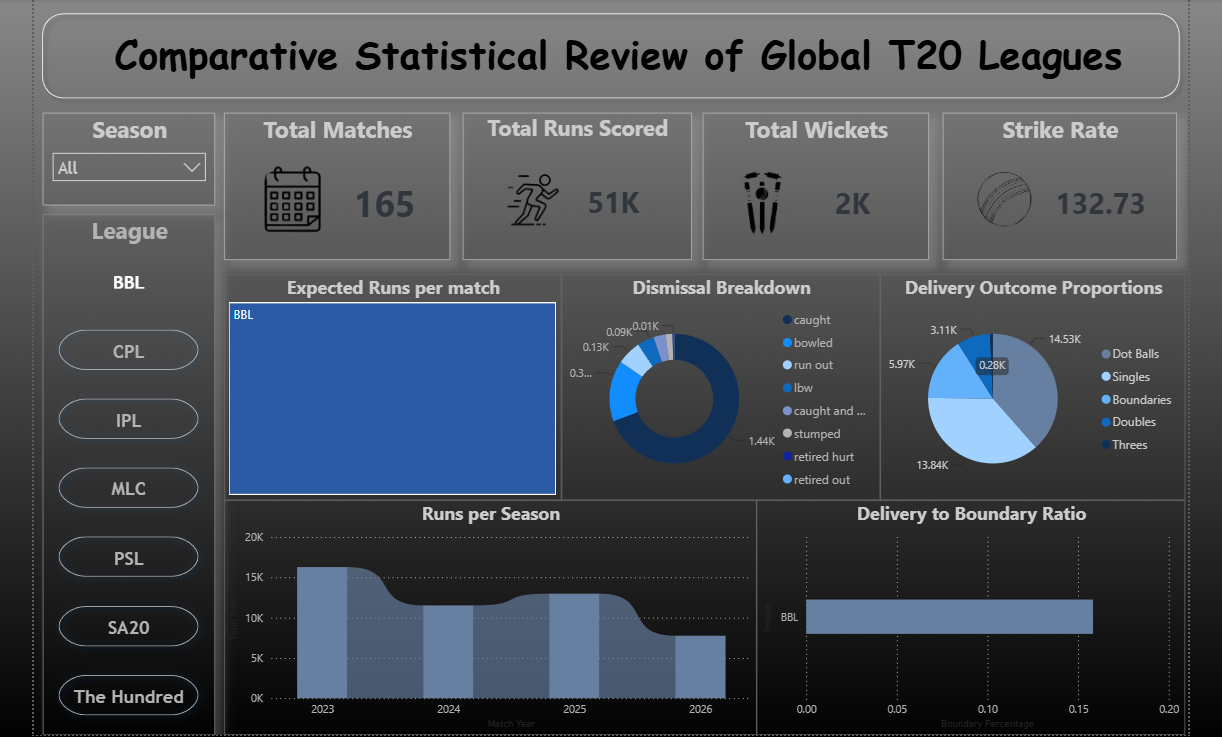

The page's visual inventory and layout, read from the dashboard file:
{"tool":"powerbi","page":{"name":"Page 1","canvas":[1285,820],"ordinal":0},"visuals":[{"type":"cardVisual","title":"Total Matches","fields":{"Data":["public matches.Total Matches"]},"box":[211.7,126.7,252.1,164.3],"z":0},{"type":"advancedSlicerVisual","title":"League","fields":{"Values":["public matches.league"]},"box":[9.7,239.5,192.2,580.7],"z":1000},{"type":"cardVisual","title":"Total Wickets","fields":{"Data":["public deliveries.Wickets Taken"]},"box":[745.1,126.7,252.1,164.3],"z":2000},{"type":"slicer","title":"Season","fields":{"Values":["public matches.Match Year"]},"box":[9.7,126.7,192.2,103.1],"z":3000},{"type":"cardVisual","title":"Total Runs Scored","fields":{"Data":["Sum(public deliveries.runs_total)"]},"box":[477.7,126.7,254.9,164.3],"z":4000},{"type":"treemap","title":"Expected Runs per match","fields":{"Group":["public matches.league"],"Values":["public deliveries.Average Runs per match"]},"box":[211.7,306.4,376,252.1],"z":5000},{"type":"ribbonChart","title":"Runs per Season","fields":{"Category":["public matches.Match Year"],"Y":["public deliveries.Total Runs"]},"box":[211.7,558.5,593.3,261.8],"z":6000},{"type":"donutChart","title":"Dismissal Breakdown","fields":{"Y":["CountNonNull(public deliveries.dismissal_kind)"],"Category":["public deliveries.dismissal_kind"]},"box":[587.7,306.4,355.1,252.1],"z":7000},{"type":"pieChart","title":"Delivery Outcome Proportions","fields":{"Category":["public deliveries.Run_category"],"Y":["CountNonNull(public deliveries.Run_category)"]},"box":[942.8,306.4,339.8,252.1],"z":8000},{"type":"clusteredBarChart","title":"Delivery to Boundary Ratio","fields":{"Y":["public matches.Boundary Percentage"],"Category":["public matches.league"]},"box":[805,558.5,477.7,261.8],"z":9000},{"type":"shape","box":[0,7,1285.4,112.8],"z":10000},{"type":"textbox","box":[20.9,26.5,1242.3,85],"z":11000},{"type":"cardVisual","title":"Strike Rate","fields":{"Data":["public deliveries.Strike Rate"]},"box":[1012.5,126.7,260.4,164.3],"z":12000}]}

Visuals, with their boxes in screenshot pixels (x1, y1, x2, y2):
"Total Matches" cardVisual: x1=220, y1=135, x2=444, y2=281
"League" advancedSlicerVisual: x1=40, y1=235, x2=211, y2=736
"Total Wickets" cardVisual: x1=693, y1=135, x2=917, y2=281
"Season" slicer: x1=40, y1=135, x2=211, y2=226
"Total Runs Scored" cardVisual: x1=456, y1=135, x2=682, y2=281
"Expected Runs per match" treemap: x1=220, y1=294, x2=554, y2=518
"Runs per Season" ribbonChart: x1=220, y1=518, x2=747, y2=736
"Dismissal Breakdown" donutChart: x1=554, y1=294, x2=869, y2=518
"Delivery Outcome Proportions" pieChart: x1=869, y1=294, x2=1171, y2=518
"Delivery to Boundary Ratio" clusteredBarChart: x1=747, y1=518, x2=1171, y2=736
shape: x1=32, y1=28, x2=1173, y2=129
textbox: x1=50, y1=46, x2=1153, y2=121
"Strike Rate" cardVisual: x1=931, y1=135, x2=1162, y2=281
